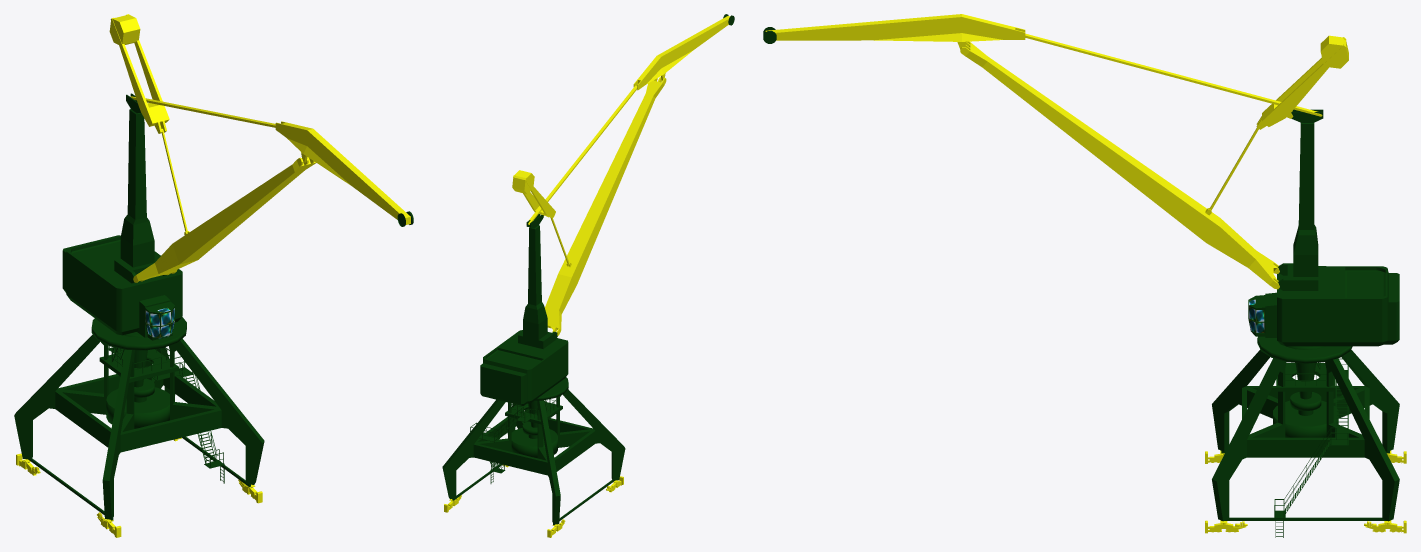
Rendered from crane_background.dae.
3 views of the same model, side by side, from view 1: azimuth 30°, elevation 25°; view 2: azimuth 150°, elevation 25°; view 3: azimuth 270°, elevation 25° (orthographic). The views are drawn at different scales.
Visible parts, largest first — view 1: portal_legs, tower_rotate, gibbet_hard, gibbet_trunk, gibbet_vang, portal_steps, gibbet_soft; view 2: portal_legs, tower_rotate, gibbet_hard, gibbet_trunk, gibbet_vang, portal_steps, gibbet_soft; view 3: portal_legs, tower_rotate, gibbet_hard, gibbet_trunk, gibbet_vang, portal_steps, gibbet_soft.
Boxes of the visible parts, left/top/right/bottom form: portal_legs: left=14, top=317, right=264, bottom=537; tower_rotate: left=62, top=93, right=182, bottom=387; gibbet_hard: left=133, top=157, right=316, bottom=282; gibbet_trunk: left=275, top=121, right=413, bottom=226; gibbet_vang: left=109, top=14, right=169, bottom=133; portal_steps: left=106, top=346, right=224, bottom=483; gibbet_soft: left=130, top=96, right=275, bottom=127; portal_legs: left=442, top=377, right=625, bottom=537; tower_rotate: left=480, top=214, right=568, bottom=427; gibbet_hard: left=544, top=77, right=666, bottom=335; gibbet_trunk: left=633, top=14, right=734, bottom=90; gibbet_vang: left=512, top=170, right=555, bottom=218; portal_steps: left=470, top=399, right=557, bottom=483; gibbet_soft: left=528, top=85, right=637, bottom=224; portal_legs: left=1205, top=336, right=1406, bottom=533; tower_rotate: left=1248, top=109, right=1399, bottom=399; gibbet_hard: left=960, top=41, right=1279, bottom=289; gibbet_trunk: left=763, top=14, right=1025, bottom=48; gibbet_vang: left=1256, top=35, right=1348, bottom=129; portal_steps: left=1274, top=358, right=1348, bottom=537; gibbet_soft: left=1025, top=33, right=1322, bottom=116.
Size of the model in its own units: 12.03 by 41.15 by 34.44.
5 materials, 2 textured.
